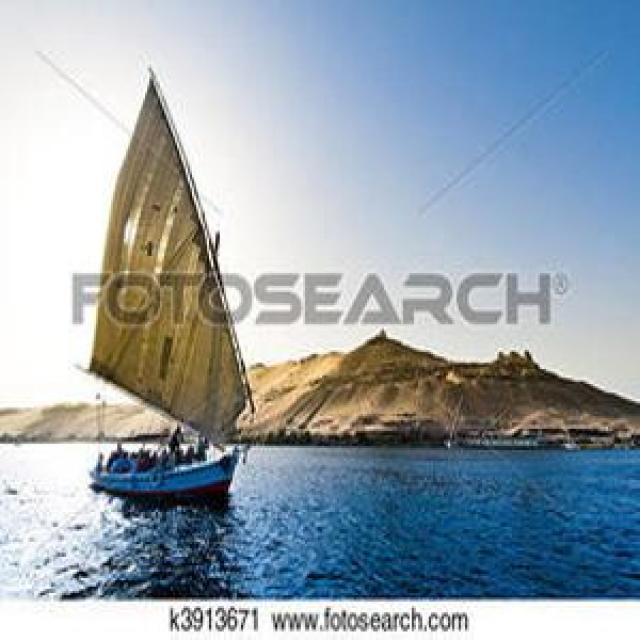sailboat: (72, 61, 248, 491)
